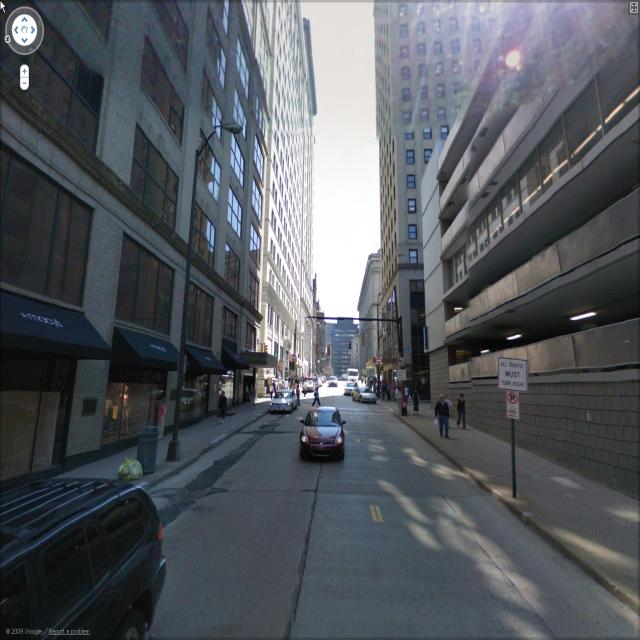b_1: (0, 1, 262, 358), (374, 9, 510, 412), (270, 1, 316, 360), (353, 261, 401, 394), (320, 301, 360, 396)
